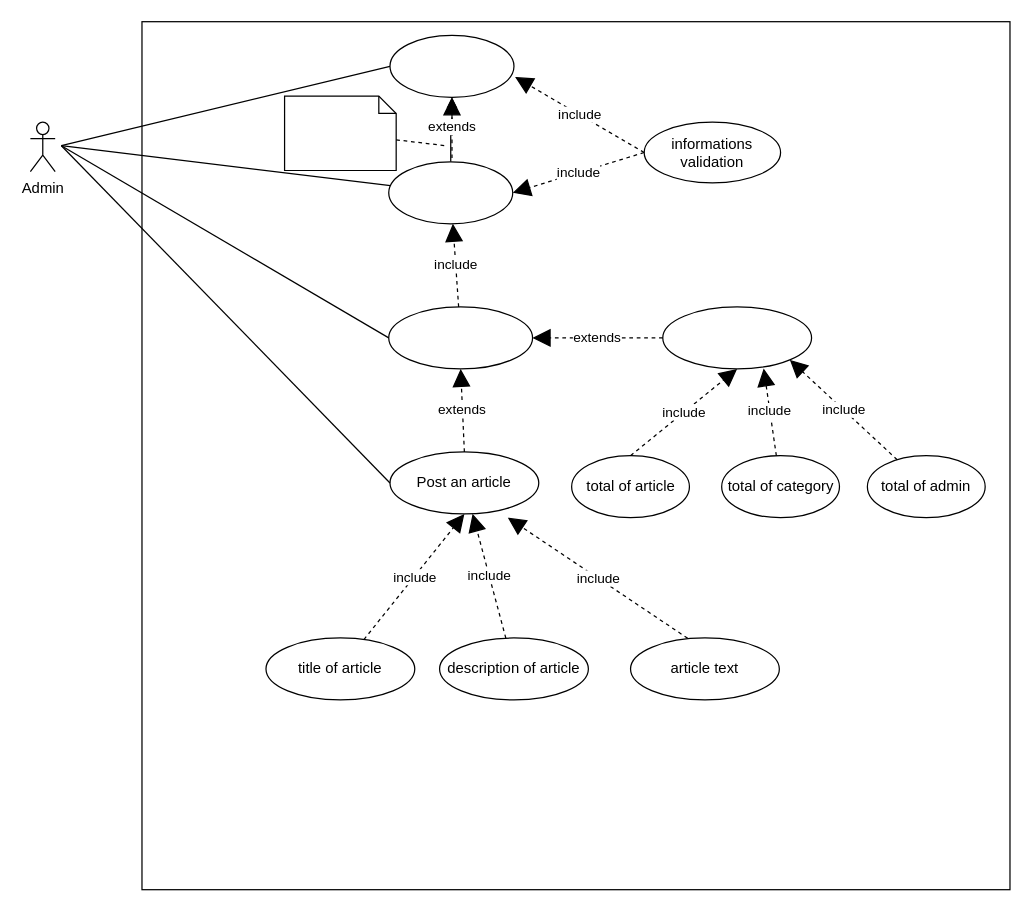
Image size: 1032x911. Some labels were removed from this diagram. Here are the shapes that lost their labels. From the top down, the box of each, then its label:
(389, 34, 514, 97): Register
(283, 95, 396, 170): if the information of admin are correct
(388, 161, 513, 224): Login
(388, 306, 533, 369): dashboard management
(662, 306, 812, 369): statistiques
